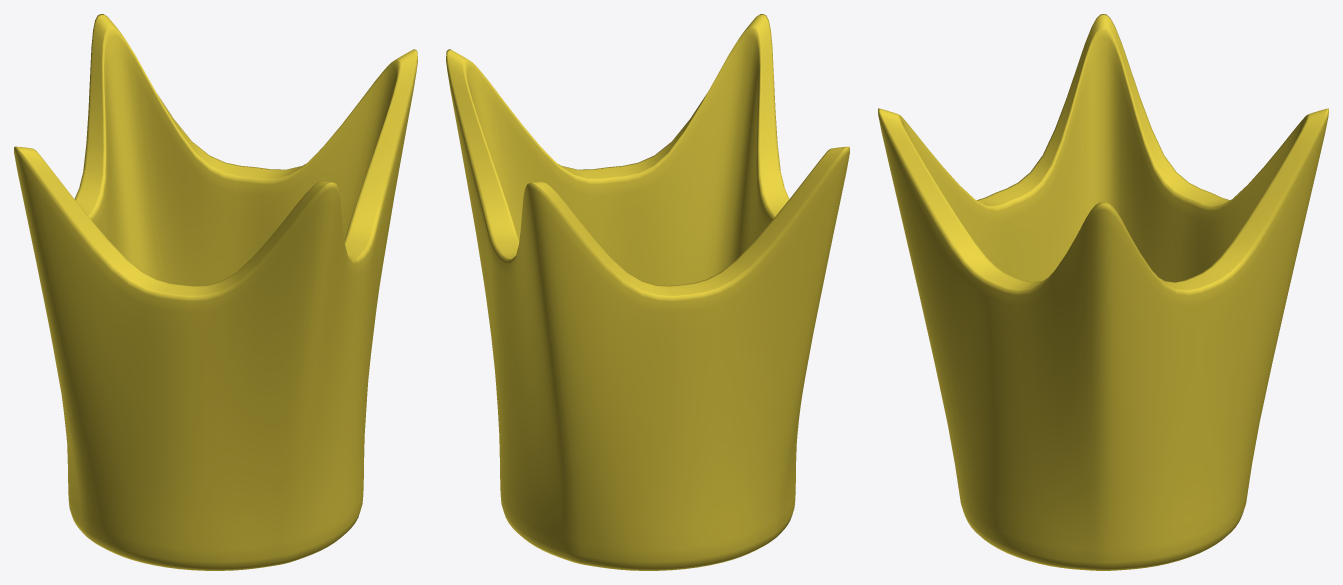
Rendered from Crown_Float_King_CrownFloat.fbx.
The picture shows the model from 3 angles, left to right: view 1: azimuth 30°, elevation 25°; view 2: azimuth 150°, elevation 25°; view 3: azimuth 270°, elevation 25°; orthographic projection. The views are drawn at different scales.
Visible parts, largest first — view 1: Crown; view 2: Crown; view 3: Crown.
Boxes of the visible parts, left/top/right/bottom form: Crown: left=14, top=14, right=417, bottom=570; Crown: left=446, top=14, right=849, bottom=570; Crown: left=878, top=14, right=1328, bottom=570.
Size of the model in its own units: 9.41 by 9.33 by 9.41.
